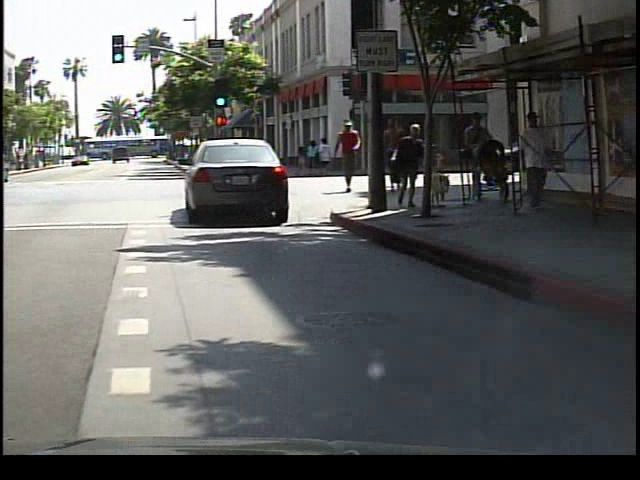person: (335, 115, 370, 198), (376, 111, 409, 197)
